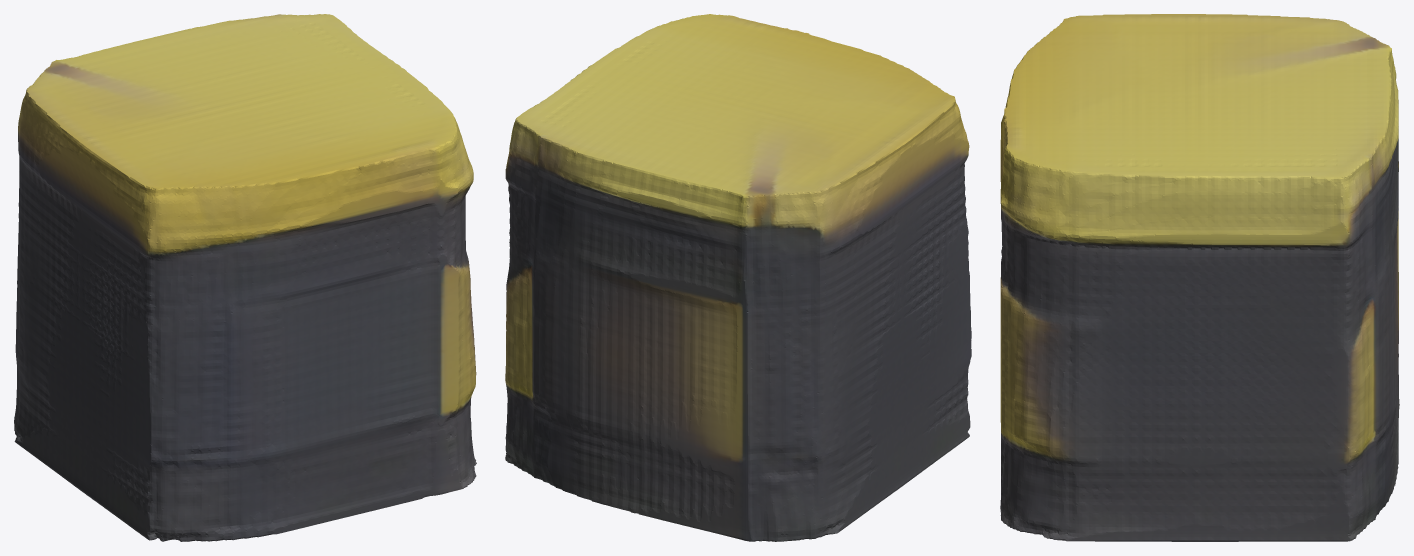
The model's file is tmp3s9y4bwa.glb.
3 views of the same model, side by side, from view 1: azimuth 30°, elevation 25°; view 2: azimuth 150°, elevation 25°; view 3: azimuth 270°, elevation 25° (orthographic). The views are drawn at different scales.
Visible parts, largest first — view 1: world; view 2: world; view 3: world.
Part boxes in pixels (x1,y1,x2,y2): world: (14, 14, 476, 541); world: (505, 14, 971, 541); world: (1000, 14, 1399, 541).
Size of the model in its own units: 1.98 by 1.99 by 1.98.
